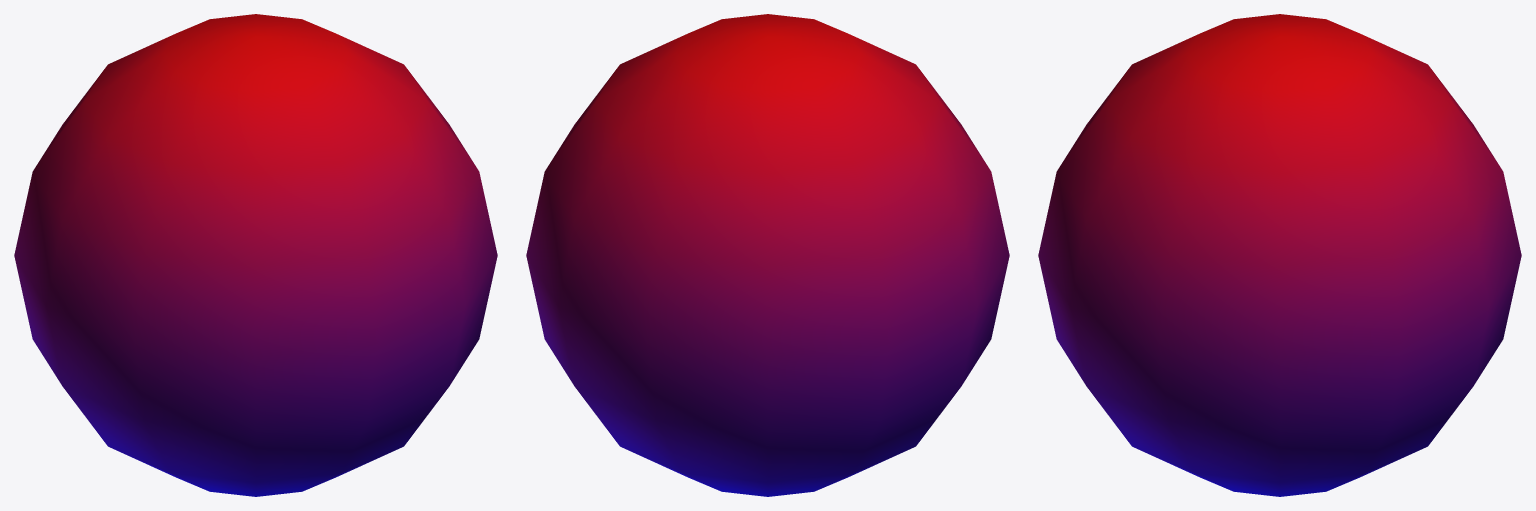
File: continuous.glb
The picture shows the model from 3 angles, left to right: view 1: azimuth 30°, elevation 25°; view 2: azimuth 150°, elevation 25°; view 3: azimuth 270°, elevation 25°; orthographic projection.
Visible parts, largest first — view 1: height.field; view 2: height.field; view 3: height.field.
Part boxes in pixels (left/top/right/bottom): height.field: left=14, top=14, right=497, bottom=496; height.field: left=526, top=14, right=1009, bottom=496; height.field: left=1038, top=14, right=1521, bottom=496.
Size of the model in its own units: 2 by 2 by 2.
